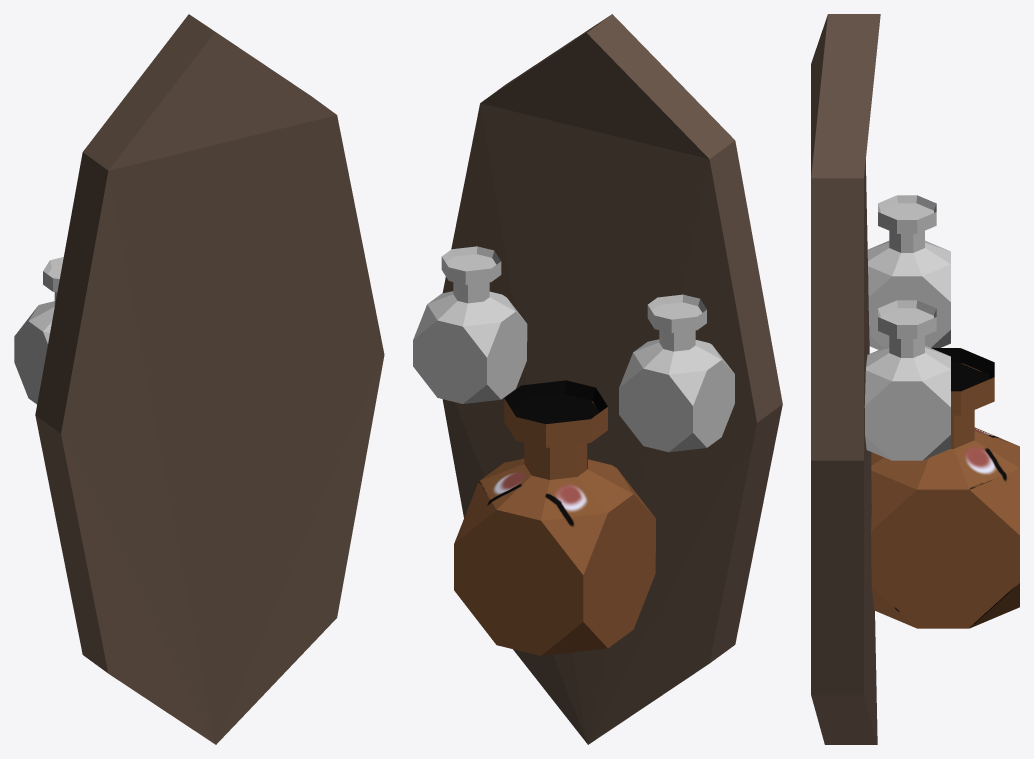
Rendered from boss.dae.
The picture shows the model from 3 angles, left to right: view 1: azimuth 30°, elevation 25°; view 2: azimuth 150°, elevation 25°; view 3: azimuth 270°, elevation 25°; orthographic projection. The views are drawn at different scales.
Visible parts, largest first — view 1: Body, Head.001; view 2: Body, Head, Head.001, Head.002; view 3: Body, Head, Head.002, Head.001.
Boxes of the visible parts, <box> form: Body: <box>35,14,384,744</box>; Head.001: <box>14,257,63,404</box>; Body: <box>442,14,782,744</box>; Head: <box>454,380,655,655</box>; Head.001: <box>619,294,734,452</box>; Head.002: <box>413,246,527,403</box>; Body: <box>811,14,880,744</box>; Head: <box>871,348,1019,628</box>; Head.002: <box>864,300,950,460</box>; Head.001: <box>867,195,950,349</box>.
Size of the model in its own units: 4.38 by 2.38 by 9.21.
